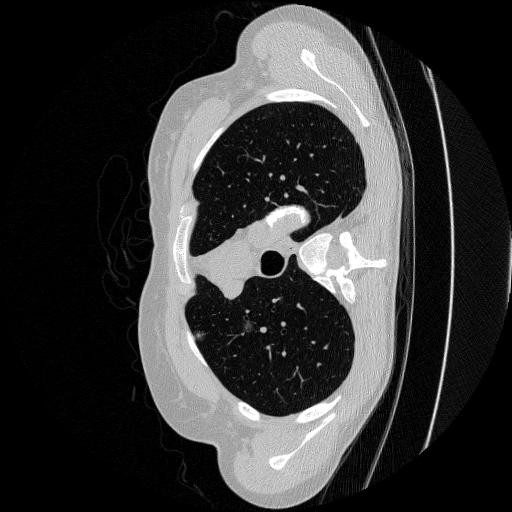nodule: (192, 330, 207, 345)
